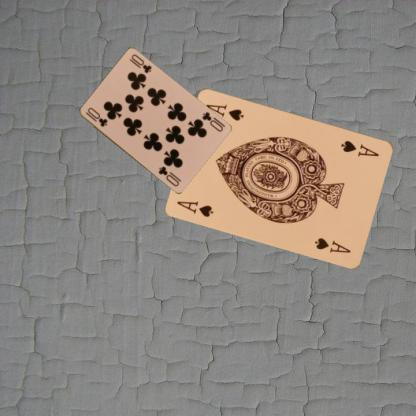10c: (199, 109, 226, 133), (82, 105, 108, 128)
As: (174, 198, 215, 219), (338, 138, 380, 158)
